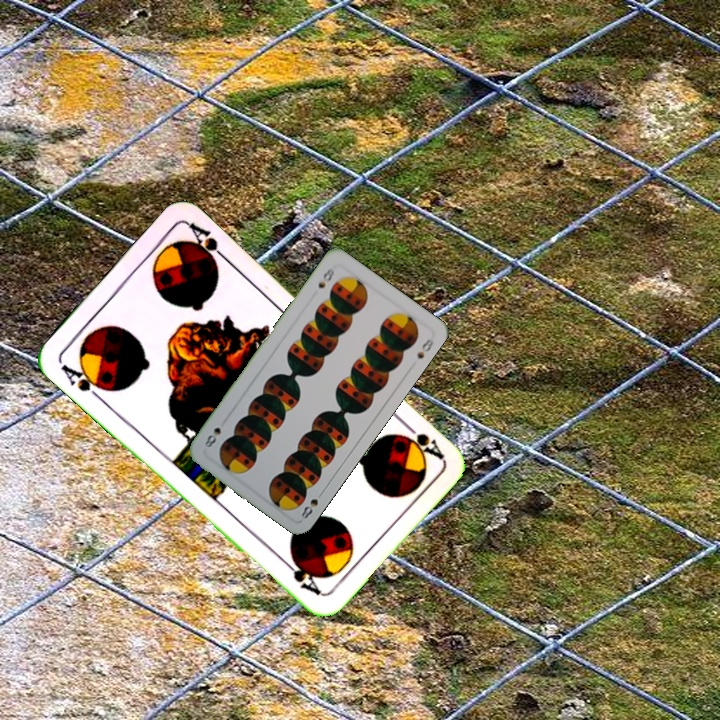S8: (297, 486, 327, 521), (314, 264, 337, 291)
SA: (56, 359, 112, 404), (397, 416, 446, 462)
